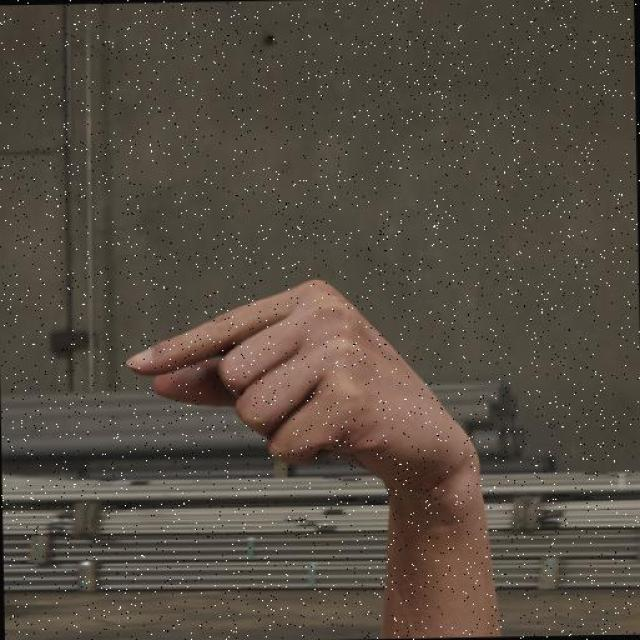G: (118, 268, 491, 487)
